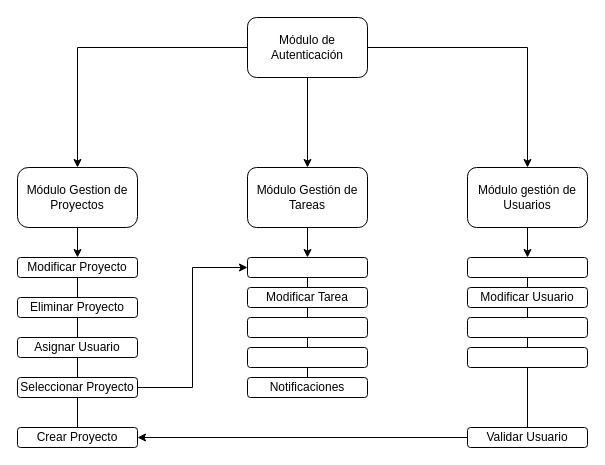
Some shapes in this 605 by 465 pixel diagram are drawn without their labels. Here are the shapes that lost their labels. From the top down, the box of each, then its label:
(246, 256, 368, 278): Crear Tarea
(466, 256, 588, 278): Crear Usuario
(246, 316, 368, 338): Eliminar Tarea
(466, 316, 588, 338): Eliminar Usuario
(246, 346, 368, 368): Asignar Usuarios
(466, 346, 588, 368): Asignar Roles
